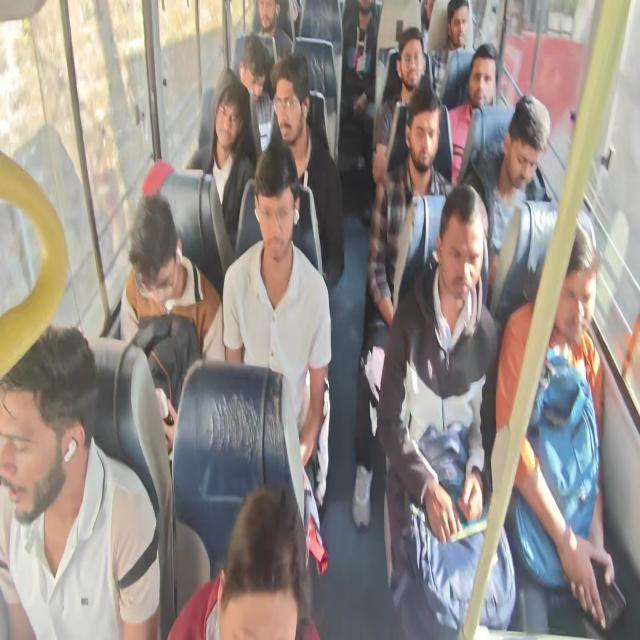person: (1, 1, 620, 638), (376, 182, 516, 638), (494, 207, 614, 634), (0, 323, 161, 639), (351, 85, 456, 529), (222, 139, 332, 519), (120, 190, 224, 456), (167, 484, 319, 639), (460, 94, 551, 306), (268, 52, 345, 293), (188, 33, 275, 167), (440, 42, 514, 186), (372, 27, 431, 184), (204, 80, 257, 253), (234, 0, 294, 99), (429, 0, 473, 106), (237, 33, 275, 155), (251, 0, 294, 65)
